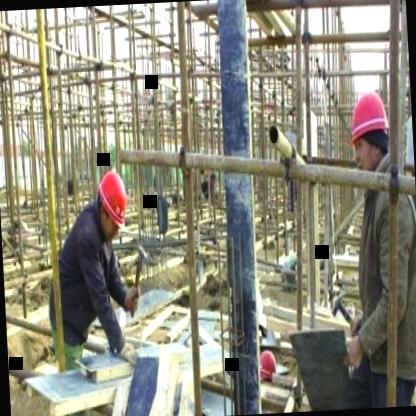helmet: (341, 84, 394, 182), (91, 160, 135, 240)
